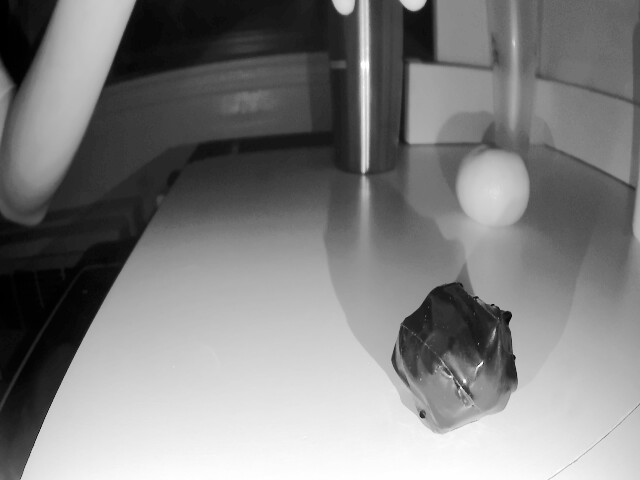silver: (384, 283, 536, 459)
